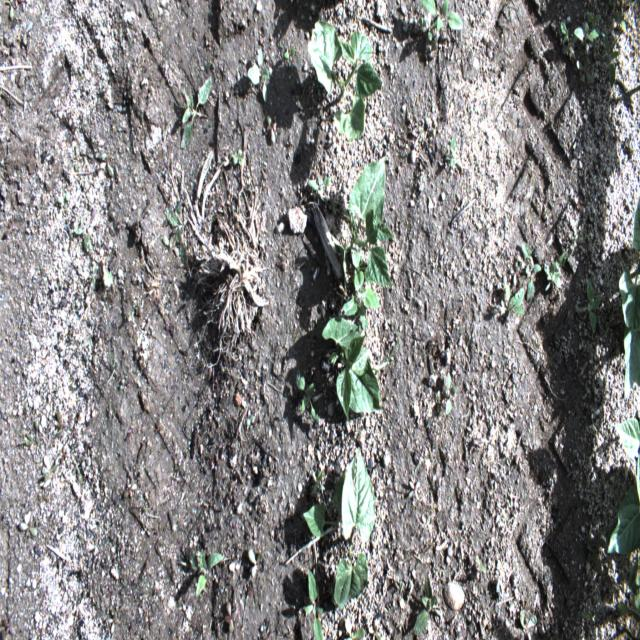crop: (307, 19, 383, 142), (329, 156, 394, 296), (332, 448, 376, 610), (322, 315, 384, 423), (608, 417, 640, 556), (303, 468, 349, 537), (616, 545, 640, 624), (618, 268, 640, 332), (624, 327, 639, 401), (632, 196, 639, 249)
weed: (340, 266, 379, 330), (180, 74, 212, 149), (418, 0, 463, 52), (185, 548, 229, 599), (163, 202, 190, 273), (370, 318, 400, 375), (303, 568, 324, 639), (576, 279, 602, 334), (414, 571, 436, 635), (247, 46, 271, 104), (520, 240, 541, 304), (296, 370, 319, 425), (565, 223, 592, 262), (602, 31, 620, 88), (527, 160, 542, 223), (544, 250, 567, 291), (586, 533, 607, 576), (574, 20, 600, 53), (500, 286, 524, 315), (560, 18, 578, 56), (417, 11, 439, 41), (19, 510, 38, 538), (72, 225, 90, 253), (445, 373, 457, 415), (576, 58, 594, 86), (248, 548, 264, 578), (520, 608, 536, 638), (162, 233, 180, 258), (41, 454, 57, 482), (70, 452, 84, 484), (344, 618, 365, 639), (106, 347, 118, 382), (224, 602, 238, 632), (307, 174, 331, 191), (585, 10, 601, 34), (100, 150, 114, 177), (445, 136, 456, 168), (613, 11, 628, 34), (21, 20, 33, 46), (86, 264, 98, 290), (312, 468, 324, 493), (123, 483, 139, 500), (266, 114, 275, 144), (510, 261, 520, 287), (39, 473, 56, 488), (562, 588, 574, 608), (408, 480, 419, 501), (475, 552, 485, 574), (4, 0, 16, 18), (108, 611, 117, 635), (434, 391, 442, 418), (103, 269, 114, 287), (20, 427, 34, 441), (368, 624, 380, 640), (498, 274, 510, 290), (581, 604, 593, 620), (78, 531, 88, 550), (245, 408, 255, 426), (4, 617, 14, 634), (430, 604, 443, 617), (232, 150, 242, 166), (34, 419, 40, 444), (58, 192, 70, 204), (56, 409, 63, 428), (108, 602, 119, 614), (37, 489, 48, 501), (284, 47, 296, 58), (60, 446, 67, 463), (17, 0, 27, 11), (19, 439, 31, 446), (1, 628, 7, 640), (22, 399, 28, 410), (119, 379, 125, 389)
